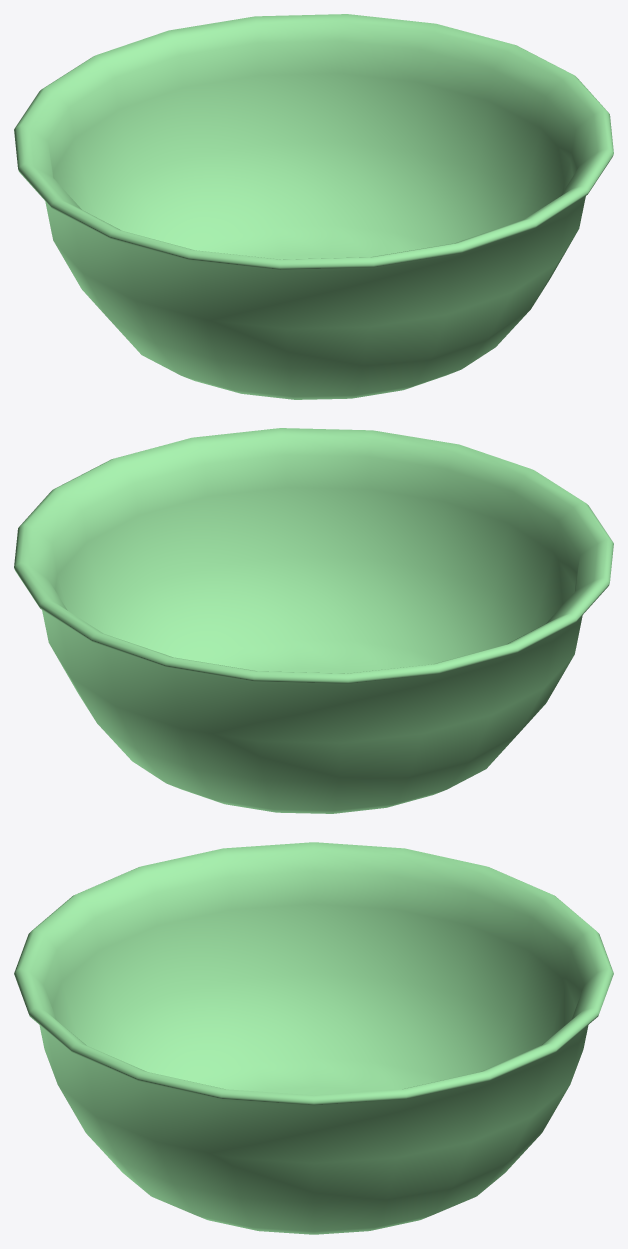
The model's file is Surgical_bowl.fbx.
3 renders of one model, top to bottom at view 1: azimuth 30°, elevation 25°; view 2: azimuth 150°, elevation 25°; view 3: azimuth 270°, elevation 25°, orthographic.
Parts seen in each view (by area): view 1: surgical_bowl; view 2: surgical_bowl; view 3: surgical_bowl.
Boxes of the visible parts, <box> form: surgical_bowl: <box>14,14,613,399</box>; surgical_bowl: <box>14,428,613,813</box>; surgical_bowl: <box>14,842,613,1234</box>.
Bounding box in the file's own units: 0.2624 × 0.0904 × 0.2567.
